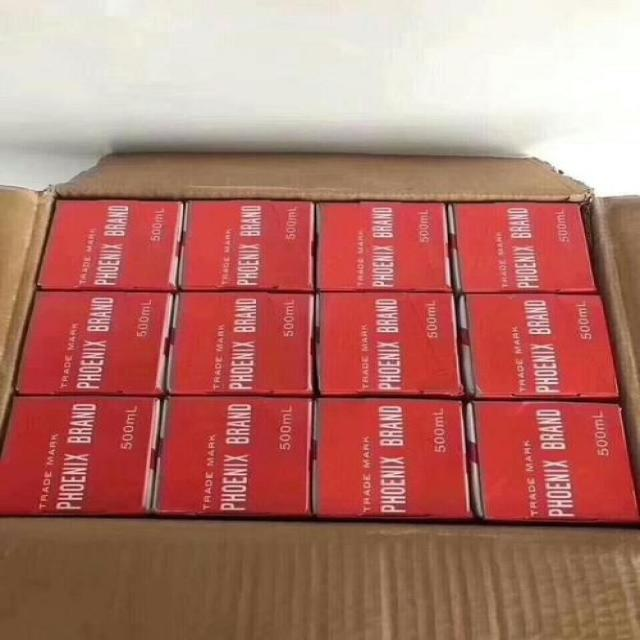box: (463, 400, 639, 523), (0, 392, 163, 514), (149, 395, 312, 517), (310, 399, 472, 518), (457, 293, 621, 401), (14, 289, 176, 395), (314, 292, 464, 398), (165, 291, 314, 397), (447, 202, 599, 293), (37, 201, 184, 293), (314, 201, 452, 292), (180, 201, 314, 294)
